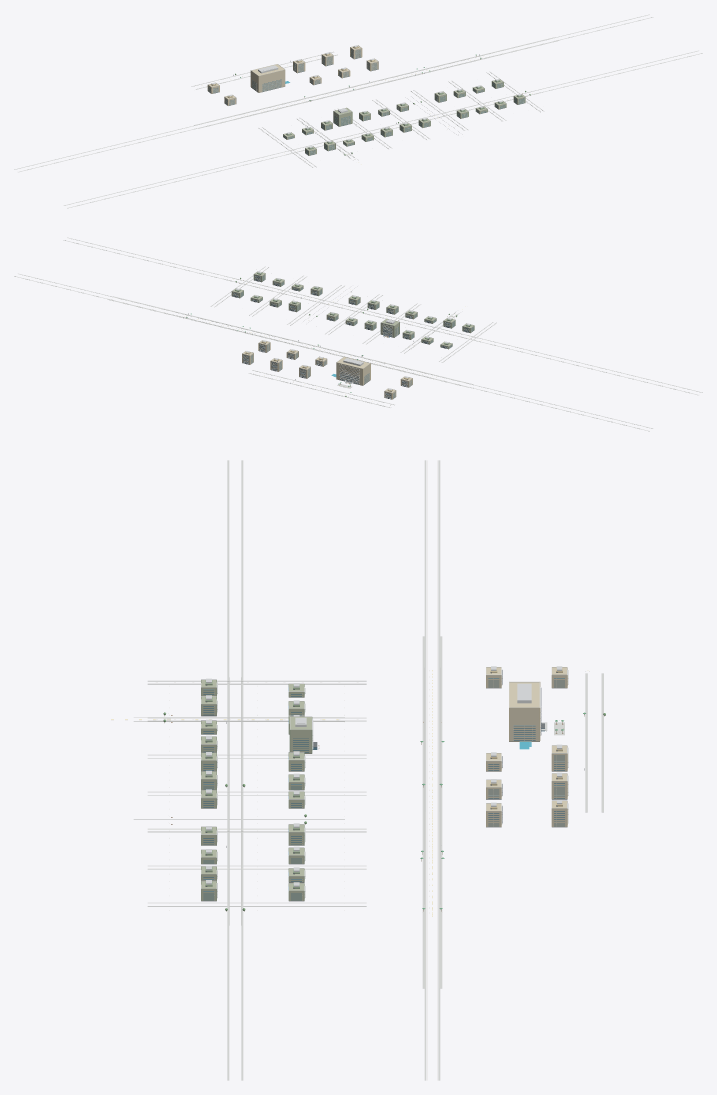
The model's file is detail-sector-s.glb.
3 views of the same model, one above another, from view 1: azimuth 30°, elevation 25°; view 2: azimuth 150°, elevation 25°; view 3: azimuth 270°, elevation 25° (orthographic). The views are drawn at different scales.
Parts seen in each view (by area): view 1: trim_light, facade_river, facade_beach, glass_blue, curb, v4_arch_s_arch_river, v4_arch_s_arch_light; view 2: trim_light, facade_river, facade_beach, glass_blue, v4_arch_s_arch_dark, curb, v4_arch_s_arch_light, v4_arch_s_arch_river; view 3: trim_light, facade_river, facade_beach, curb, road_white, glass_blue, v4_arch_s_arch_light, v4_arch_s_arch_river.
Part boxes in pixels (x1=…): trim_light: x1=14, y1=14, x2=702, y2=208; facade_river: x1=283, y1=79, x2=525, y2=155; facade_beach: x1=208, y1=45, x2=378, y2=105; glass_blue: x1=208, y1=49, x2=524, y2=154; curb: x1=194, y1=52, x2=542, y2=164; v4_arch_s_arch_river: x1=286, y1=80, x2=522, y2=155; v4_arch_s_arch_light: x1=211, y1=45, x2=521, y2=148; trim_light: x1=14, y1=237, x2=702, y2=431; facade_river: x1=232, y1=271, x2=474, y2=348; facade_beach: x1=242, y1=340, x2=412, y2=399; glass_blue: x1=233, y1=275, x2=473, y2=398; v4_arch_s_arch_dark: x1=233, y1=275, x2=468, y2=398; curb: x1=176, y1=267, x2=495, y2=405; v4_arch_s_arch_light: x1=233, y1=271, x2=470, y2=397; v4_arch_s_arch_river: x1=231, y1=272, x2=474, y2=346; trim_light: x1=147, y1=460, x2=603, y2=1080; facade_river: x1=201, y1=680, x2=311, y2=900; facade_beach: x1=486, y1=667, x2=566, y2=826; curb: x1=134, y1=668, x2=601, y2=925; road_white: x1=111, y1=460, x2=439, y2=1080; glass_blue: x1=203, y1=678, x2=564, y2=900; v4_arch_s_arch_light: x1=206, y1=666, x2=568, y2=897; v4_arch_s_arch_river: x1=201, y1=680, x2=312, y2=900.
Size of the model in its own units: 3350 by 93.4 by 1130.
